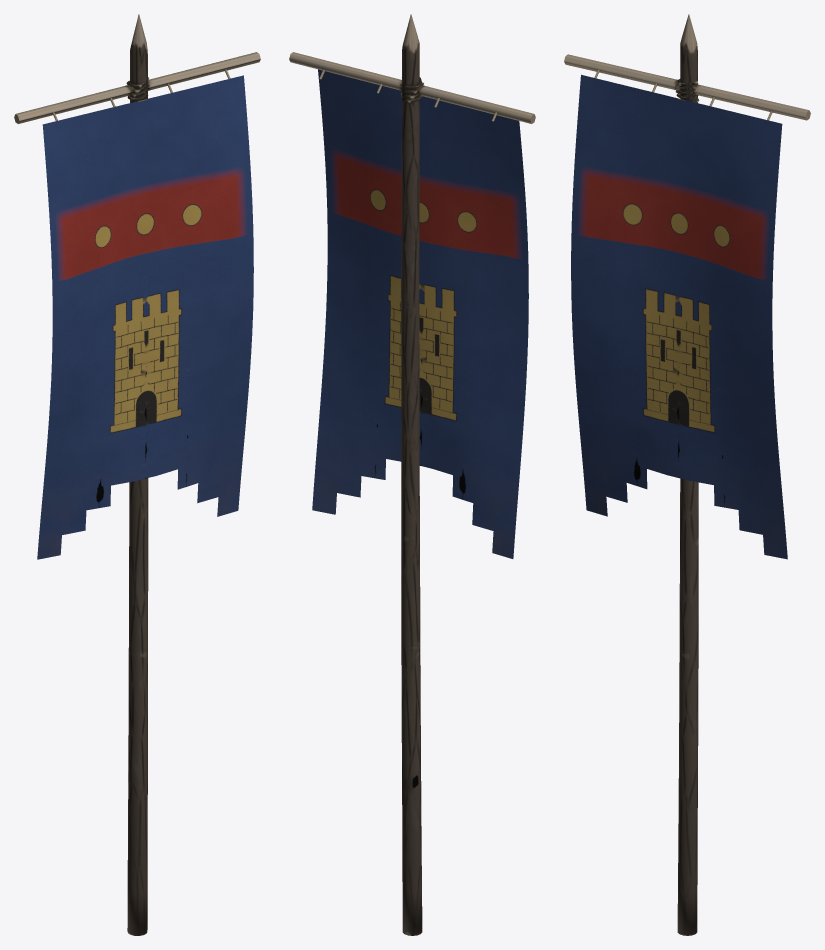
Rendered from SM_Camp_Banner.fbx.
3 views of the same model, side by side, from view 1: azimuth 30°, elevation 25°; view 2: azimuth 150°, elevation 25°; view 3: azimuth 330°, elevation 25° (orthographic).
Parts seen in each view (by area): view 1: SM_Camp_Banner; view 2: SM_Camp_Banner; view 3: SM_Camp_Banner.
Part boxes in pixels (x1,y1,x2,y2): SM_Camp_Banner: [14, 14, 260, 935]; SM_Camp_Banner: [289, 14, 535, 935]; SM_Camp_Banner: [564, 14, 810, 935].
Bounding box in the file's own units: 84.03 × 13.22 × 305.
